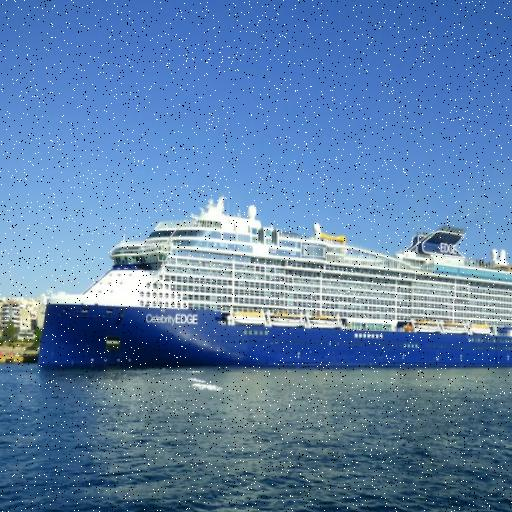cruises: (32, 189, 512, 376)
